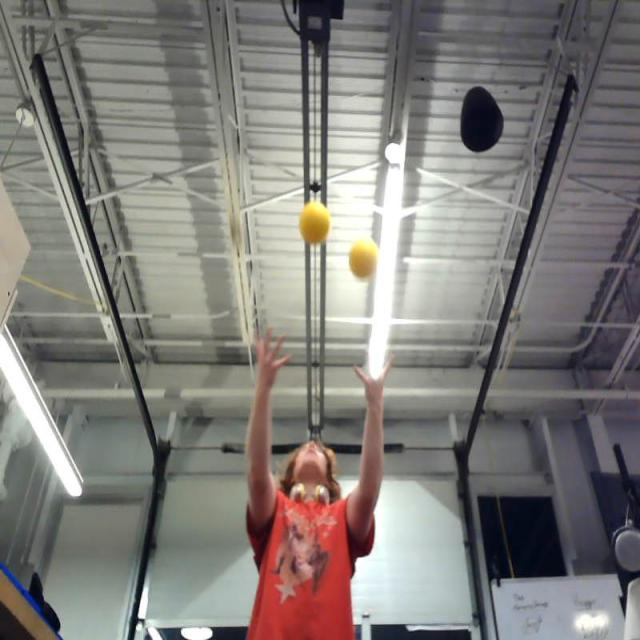Fuel: (299, 202, 330, 244), (349, 238, 378, 277)
